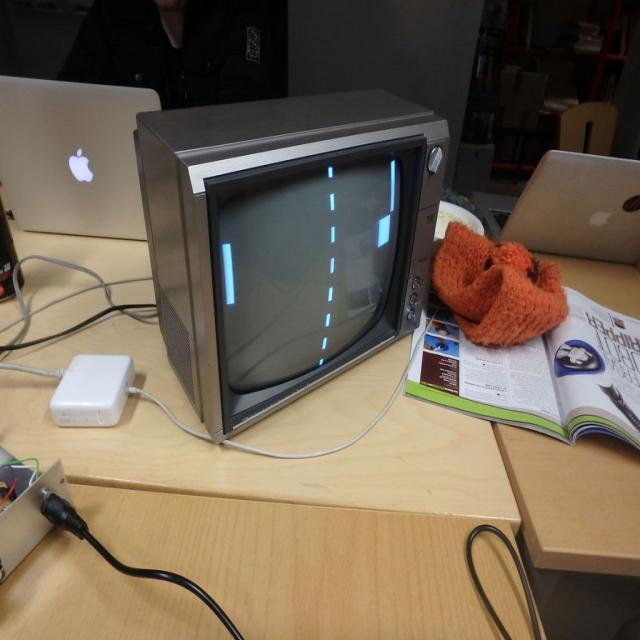others: (1, 9, 599, 640)
